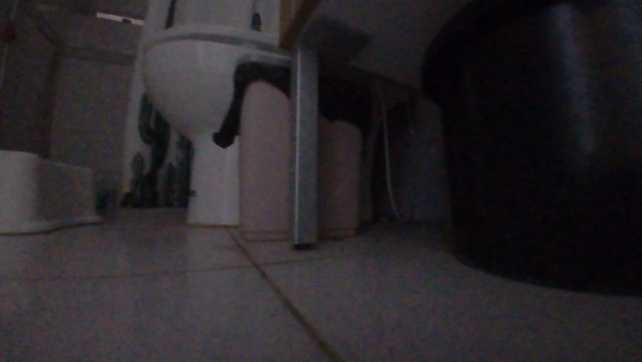toilet: (135, 20, 283, 224)
trash_can: (236, 49, 371, 235)
